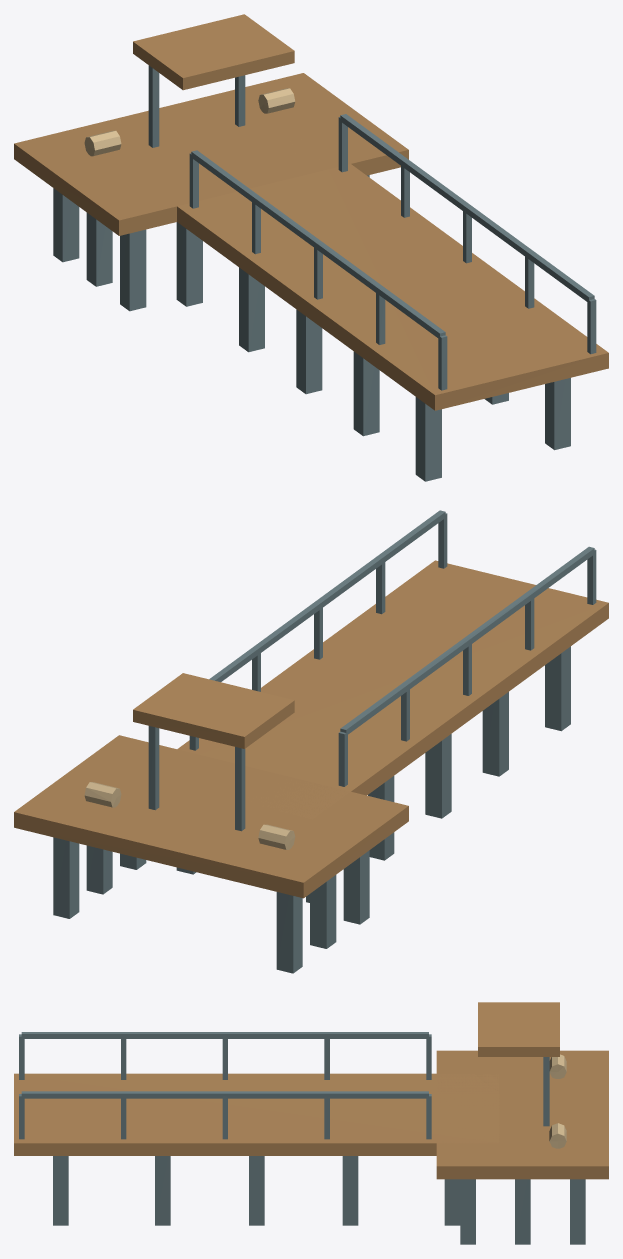
File: Fishing-Pier.glb
3 views of the same model, one above another, from view 1: azimuth 30°, elevation 25°; view 2: azimuth 150°, elevation 25°; view 3: azimuth 270°, elevation 25° (orthographic). The views are drawn at different scales.
Parts seen in each view (by area): view 1: coastal-pier-static-pier-salt-timber, coastal-pier-static-pier-dark-metal, coastal-pier-static-pier-galvanized, coastal-pier-static-pier-muted-teal, coastal-pier-static-pier-warm-cream; view 2: coastal-pier-static-pier-salt-timber, coastal-pier-static-pier-dark-metal, coastal-pier-static-pier-galvanized, coastal-pier-static-pier-muted-teal, coastal-pier-static-pier-warm-cream; view 3: coastal-pier-static-pier-salt-timber, coastal-pier-static-pier-galvanized, coastal-pier-static-pier-dark-metal, coastal-pier-static-pier-muted-teal, coastal-pier-static-pier-warm-cream.
Boxes of the visible parts, box(x1,y1,x2,y2) form: coastal-pier-static-pier-salt-timber: box(14, 73, 608, 410); coastal-pier-static-pier-dark-metal: box(53, 175, 570, 481); coastal-pier-static-pier-galvanized: box(148, 65, 596, 390); coastal-pier-static-pier-muted-teal: box(133, 14, 294, 90); coastal-pier-static-pier-warm-cream: box(84, 88, 295, 156); coastal-pier-static-pier-salt-timber: box(14, 560, 608, 898); coastal-pier-static-pier-dark-metal: box(53, 646, 570, 973); coastal-pier-static-pier-galvanized: box(148, 510, 596, 831); coastal-pier-static-pier-muted-teal: box(133, 673, 294, 748); coastal-pier-static-pier-warm-cream: box(84, 782, 295, 849); coastal-pier-static-pier-salt-timber: box(14, 1050, 608, 1179); coastal-pier-static-pier-galvanized: box(19, 1032, 549, 1139); coastal-pier-static-pier-dark-metal: box(53, 1156, 585, 1244); coastal-pier-static-pier-muted-teal: box(478, 1002, 559, 1056); coastal-pier-static-pier-warm-cream: box(549, 1054, 566, 1148).
Bounding box in the file's own units: 3.5 × 2.42 × 7.6.
